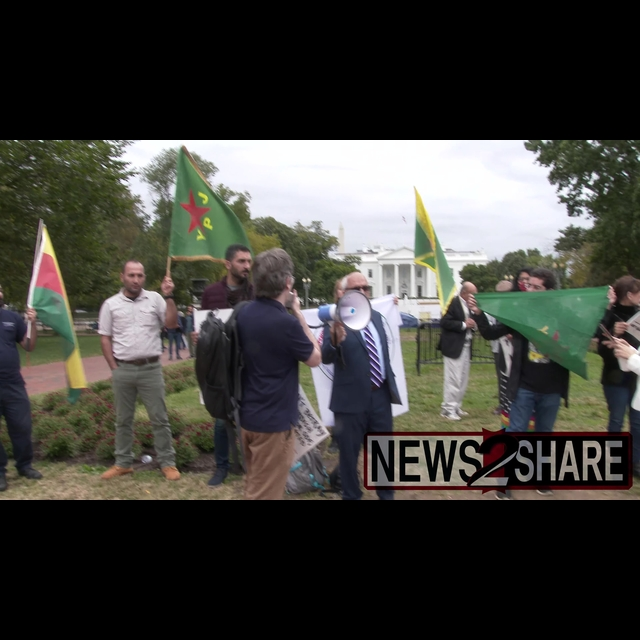YPJ: (178, 186, 219, 247)
